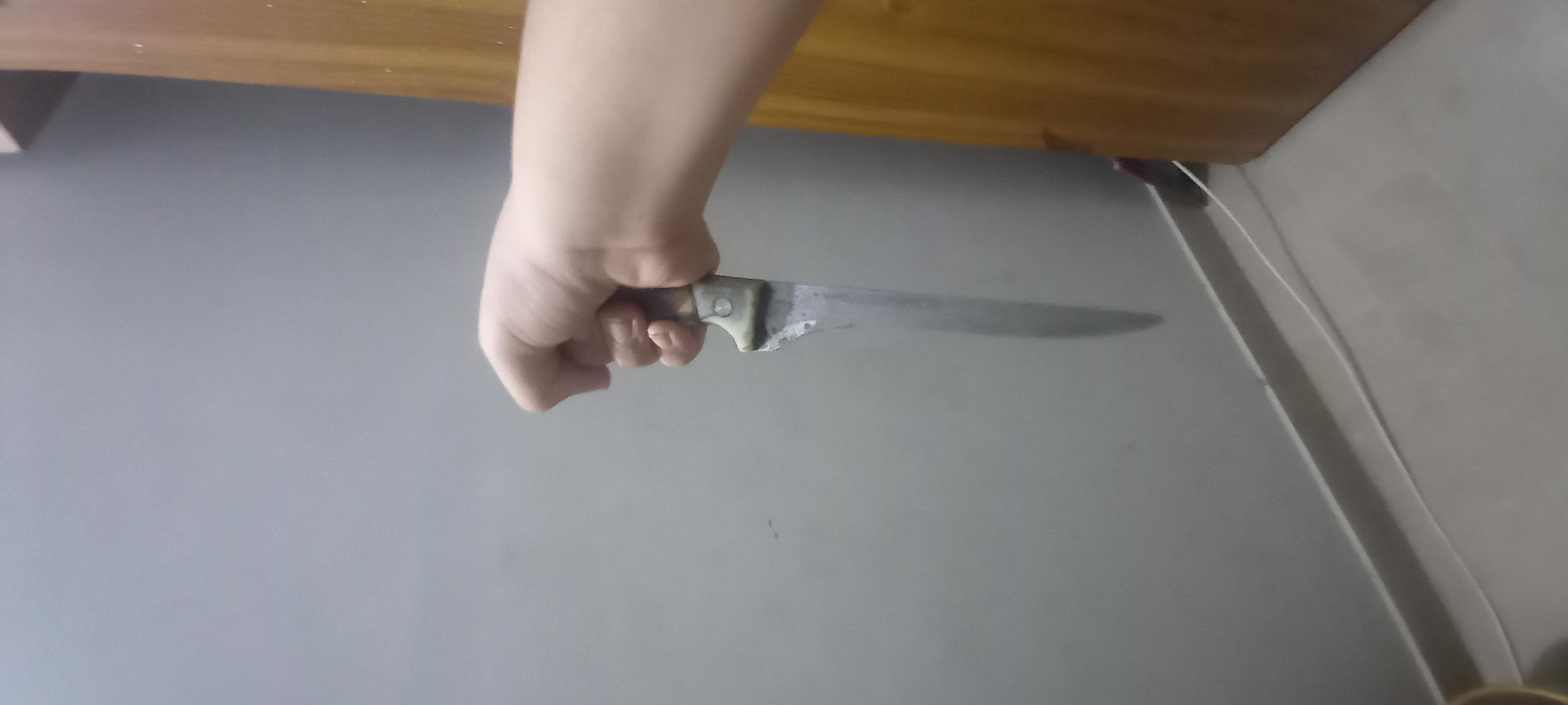knives: (735, 242, 990, 534)
